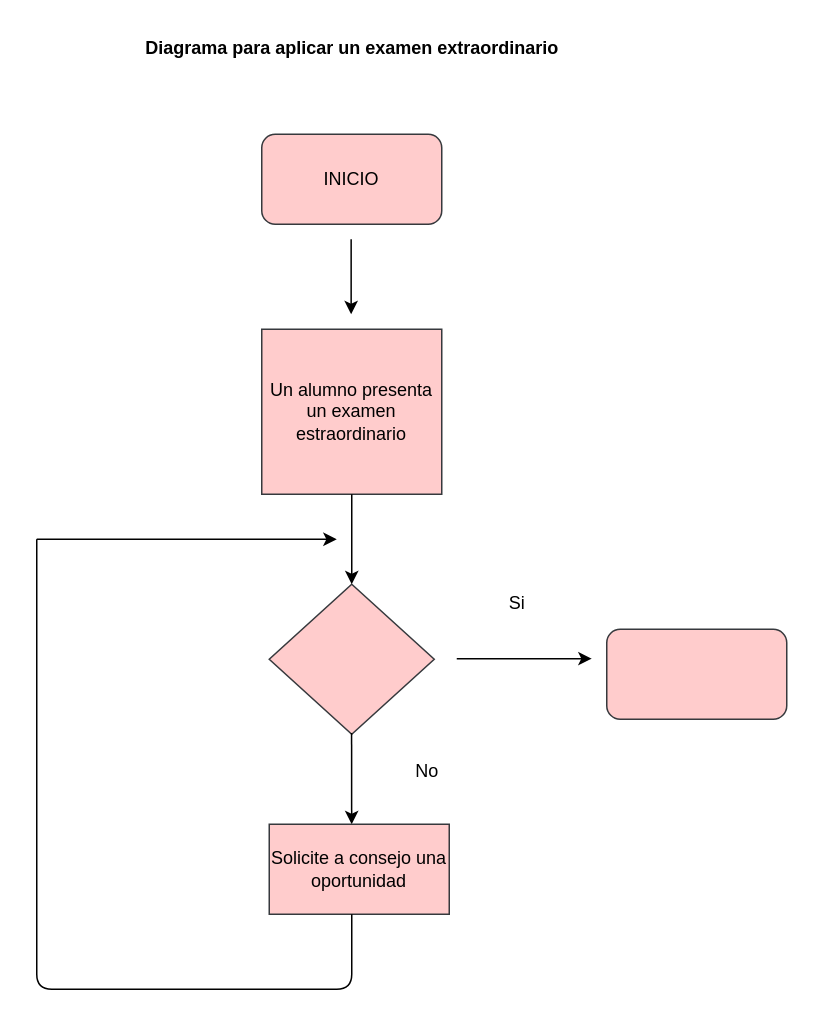
The diagram is 813 pixels wide and 1017 high, and some of its shapes have lost their labels. Each missing label, with the centre of its shape:
"calf. > 70" belongs at (351,658).
"Fin" belongs at (696,673).
